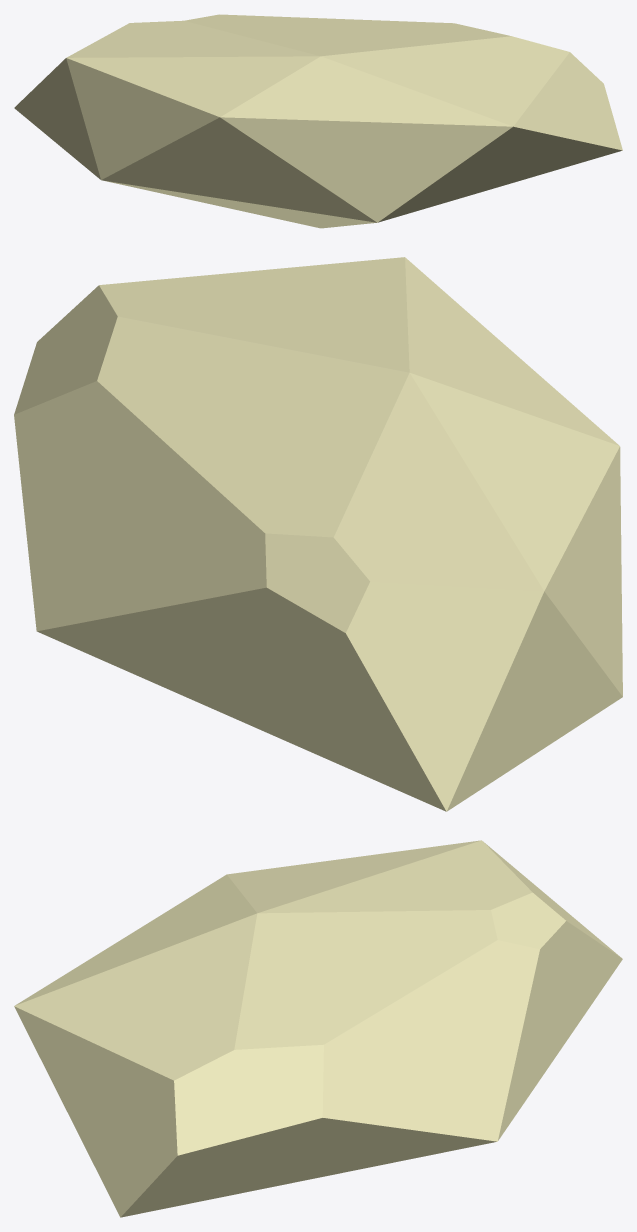
The model's file is Rock Small.fbx.
The picture shows the model from 3 angles, top to bottom: view 1: azimuth 30°, elevation 25°; view 2: azimuth 150°, elevation 25°; view 3: azimuth 270°, elevation 25°; orthographic projection. The views are drawn at different scales.
Visible parts, largest first — view 1: Stone.001; view 2: Stone.001; view 3: Stone.001.
Part boxes in pixels (x1,y1,x2,y2): Stone.001: (14, 14, 622, 228); Stone.001: (14, 257, 622, 811); Stone.001: (14, 840, 622, 1217).
Size of the model in its own units: 0.3399 by 0.1316 by 0.3288.
